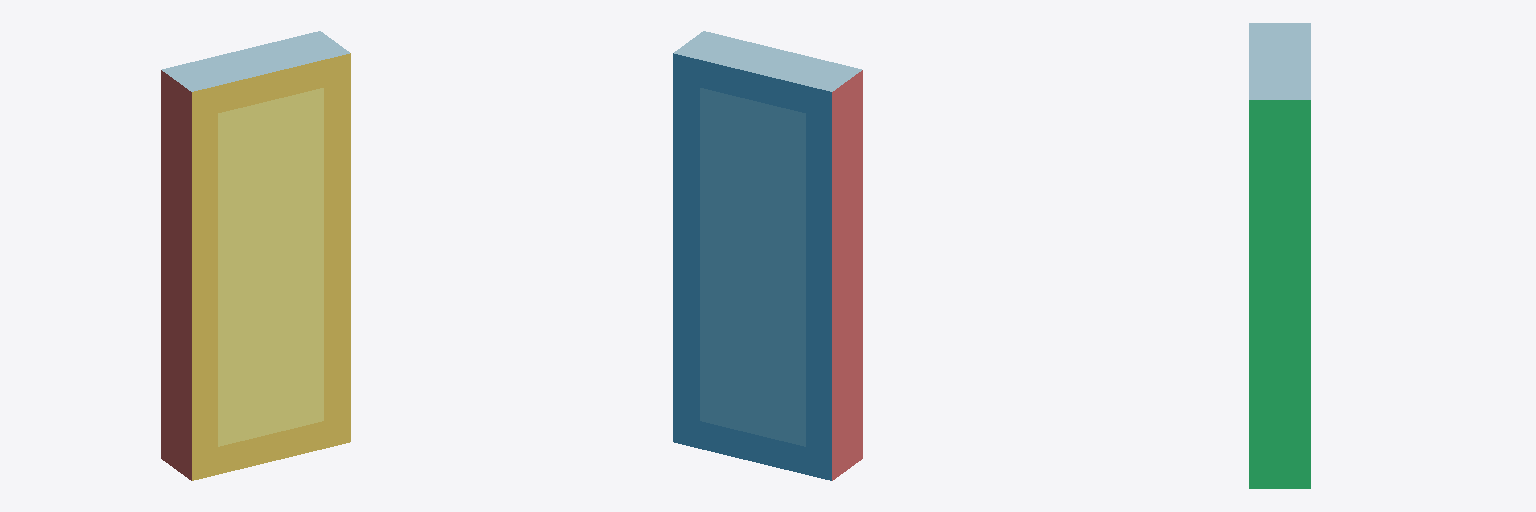
3 renders of one model, left to right at view 1: azimuth 30°, elevation 25°; view 2: azimuth 150°, elevation 25°; view 3: azimuth 270°, elevation 25°, orthographic.
Parts seen in each view (by area): view 1: cube; view 2: cube; view 3: cube.
Boxes of the visible parts, <box> form: cube: <box>161,31,350,480</box>; cube: <box>673,31,862,480</box>; cube: <box>1249,23,1310,488</box>.
Size of the model in its own units: 0.375 by 0.875 by 0.125.
1 materials, 1 textured.